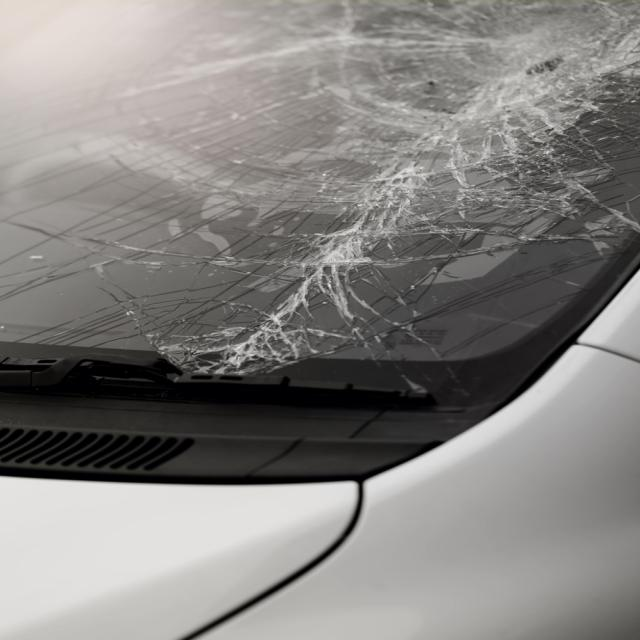glass shatter: (0, 0, 640, 408)
